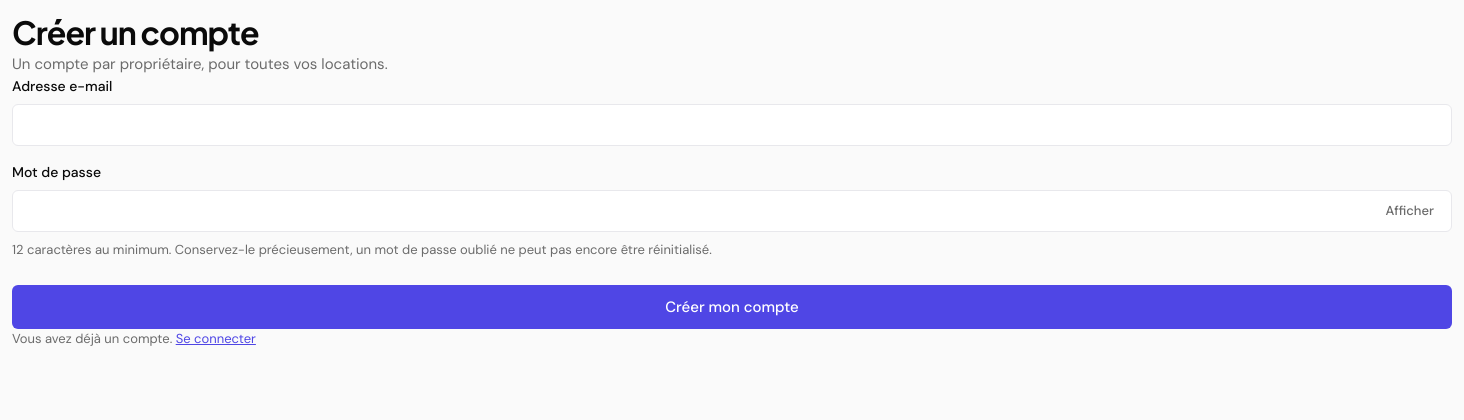
Test: Formulaire d'inscription — erreurs renvoyées par l'action › CA12 — E1 et E4 : chaque message sous son champ, aria-invalid, focus sur l'e-mail
The image size is (1464, 420).
Click the button "Créer mon compte". click: (732, 307)
box: [12, 285, 1452, 329]
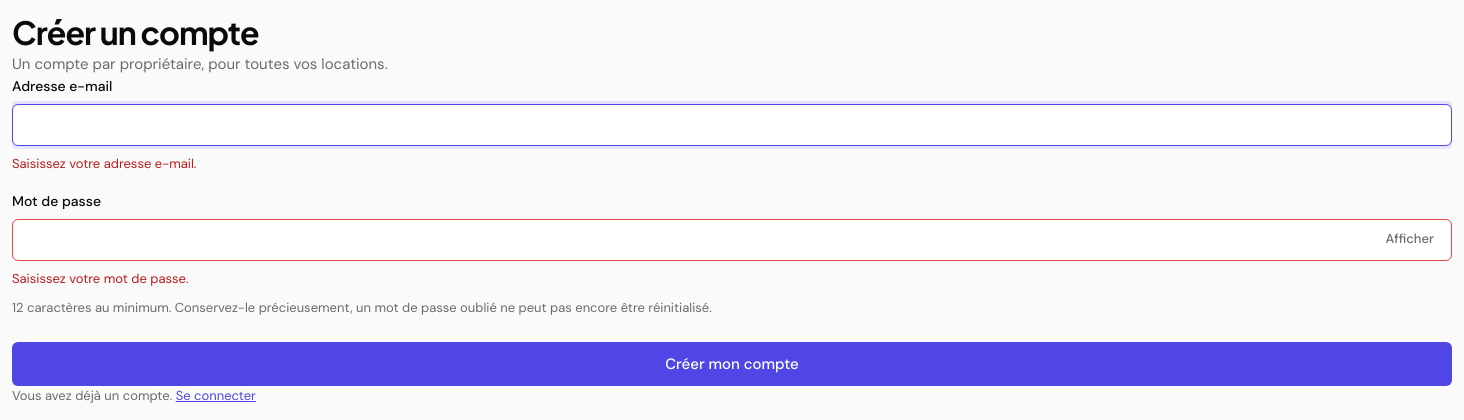
Check: the text "Saisissez votre adresse e-mail." is shown, box [12, 155, 196, 172]
